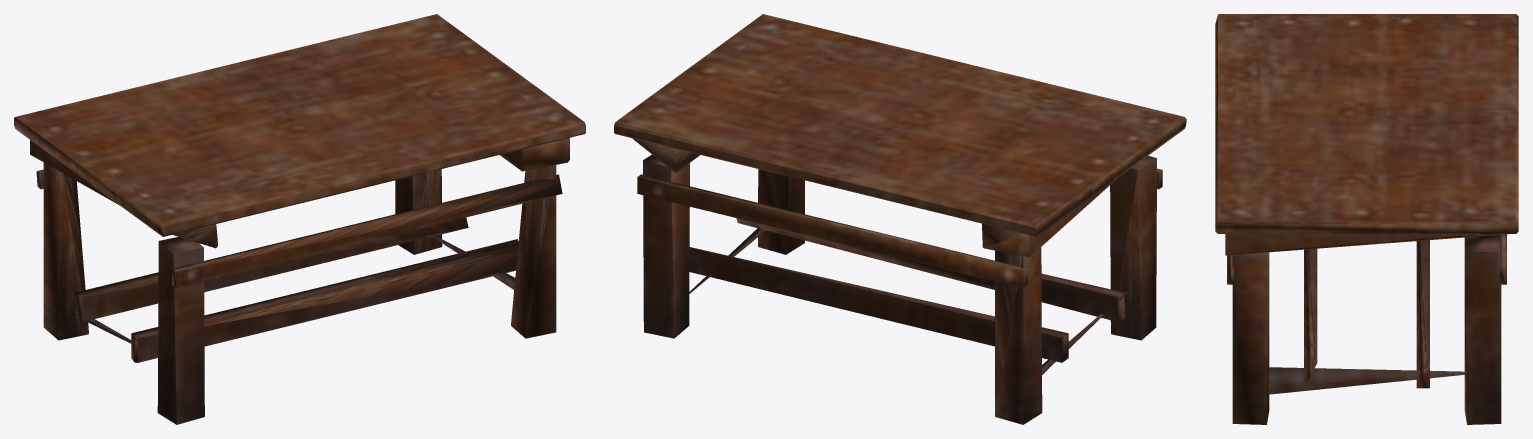
3 renders of one model, left to right at view 1: azimuth 30°, elevation 25°; view 2: azimuth 150°, elevation 25°; view 3: azimuth 270°, elevation 25°, orthographic.
Visible parts, largest first — view 1: table; view 2: table; view 3: table.
Part boxes in pixels (bbox=[...]): table: bbox=[14, 14, 585, 424]; table: bbox=[614, 14, 1186, 424]; table: bbox=[1215, 14, 1518, 424].
Size of the model in its own units: 1.56 by 0.7423 by 0.9594.
1 material, 1 textured.
